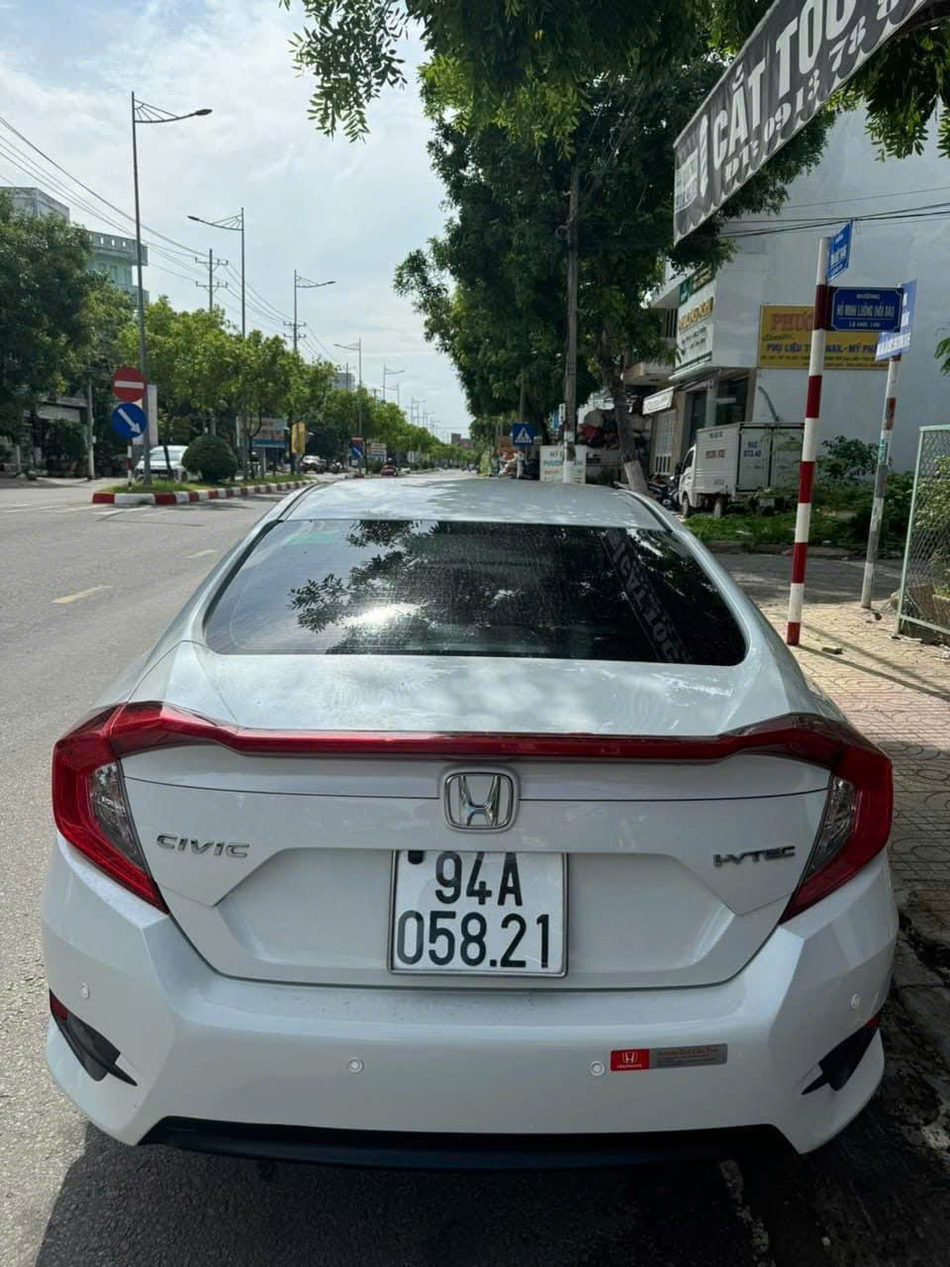Bien-so: (390, 842, 586, 986)
